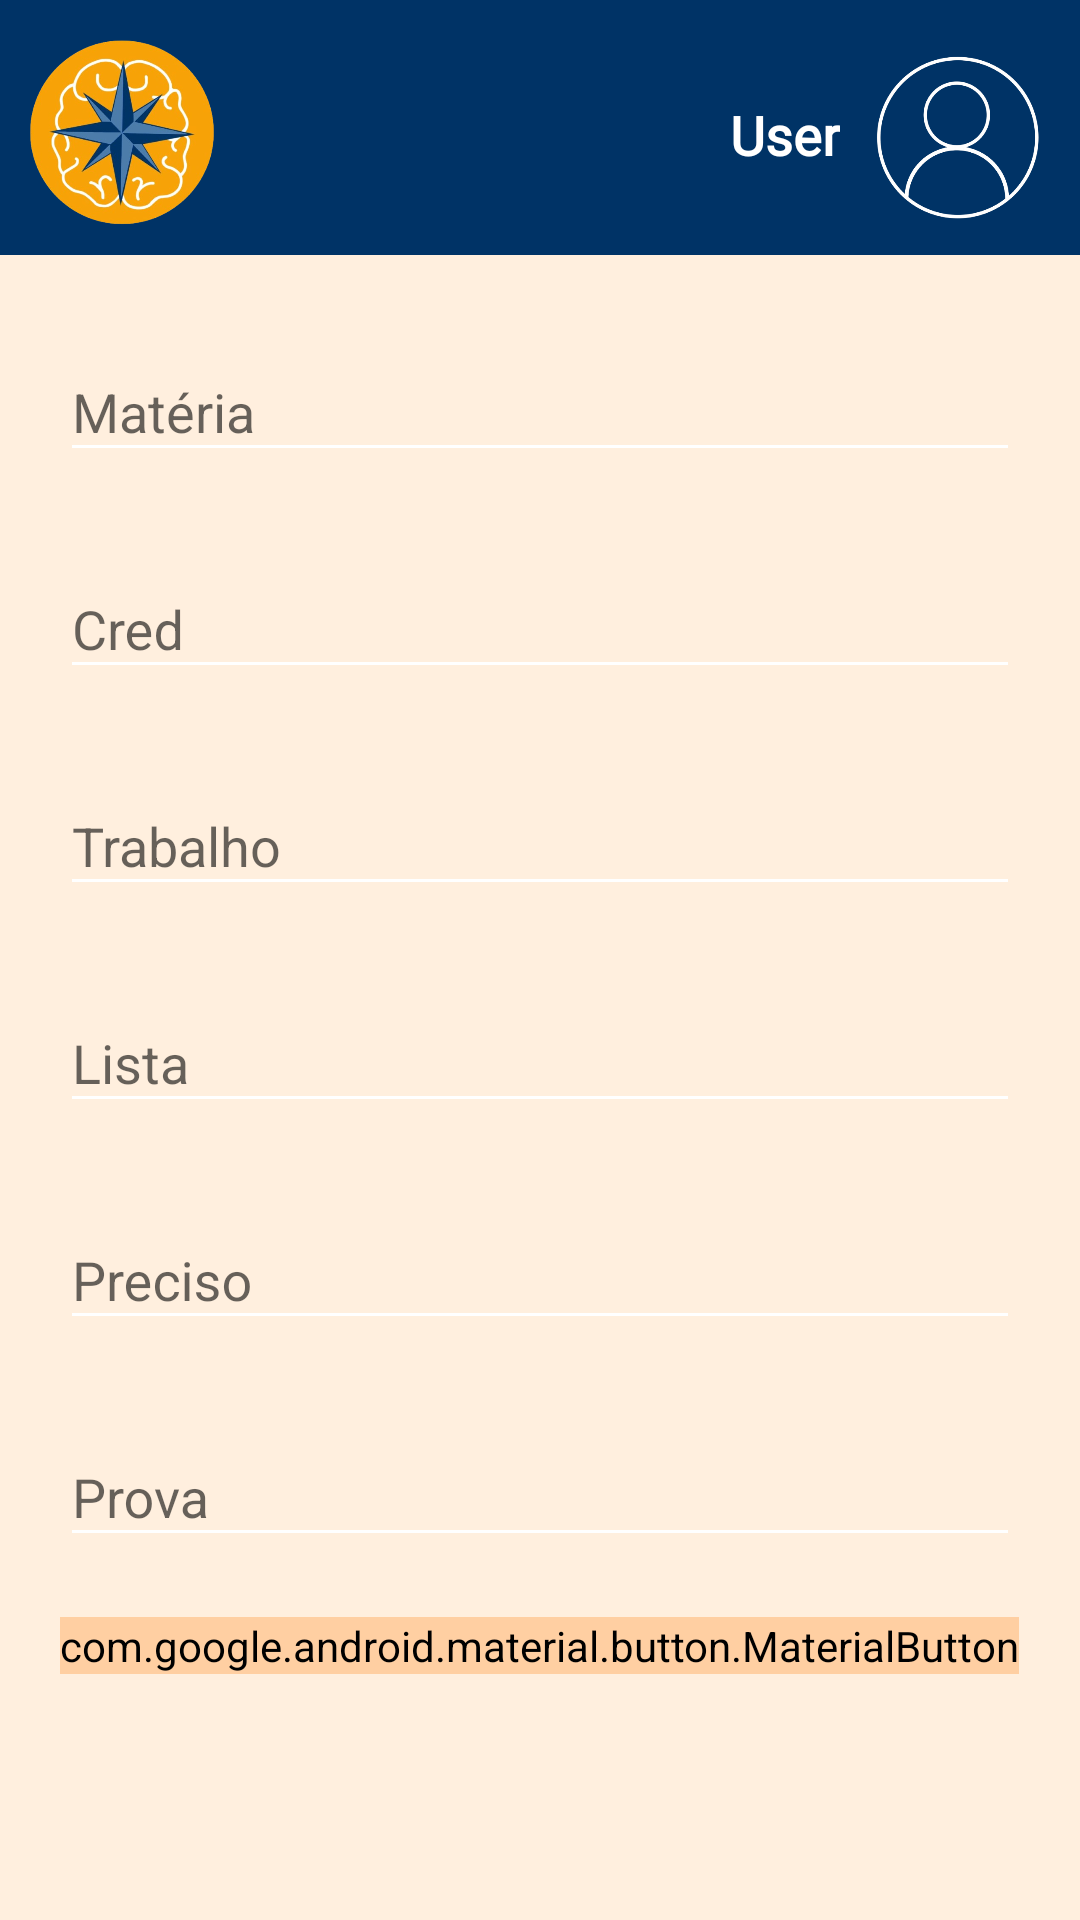

Where icons sit on this 1080w x 1920h app screen, as (x1, y1, x2, y2):
perfil: (877, 57, 1039, 219)
